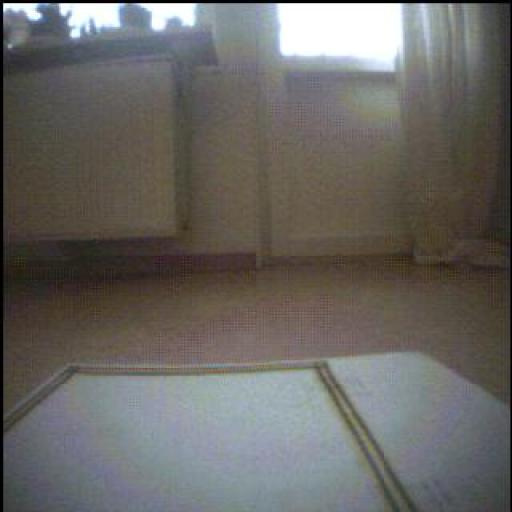Pad: (5, 355, 512, 512), (5, 363, 416, 512)
